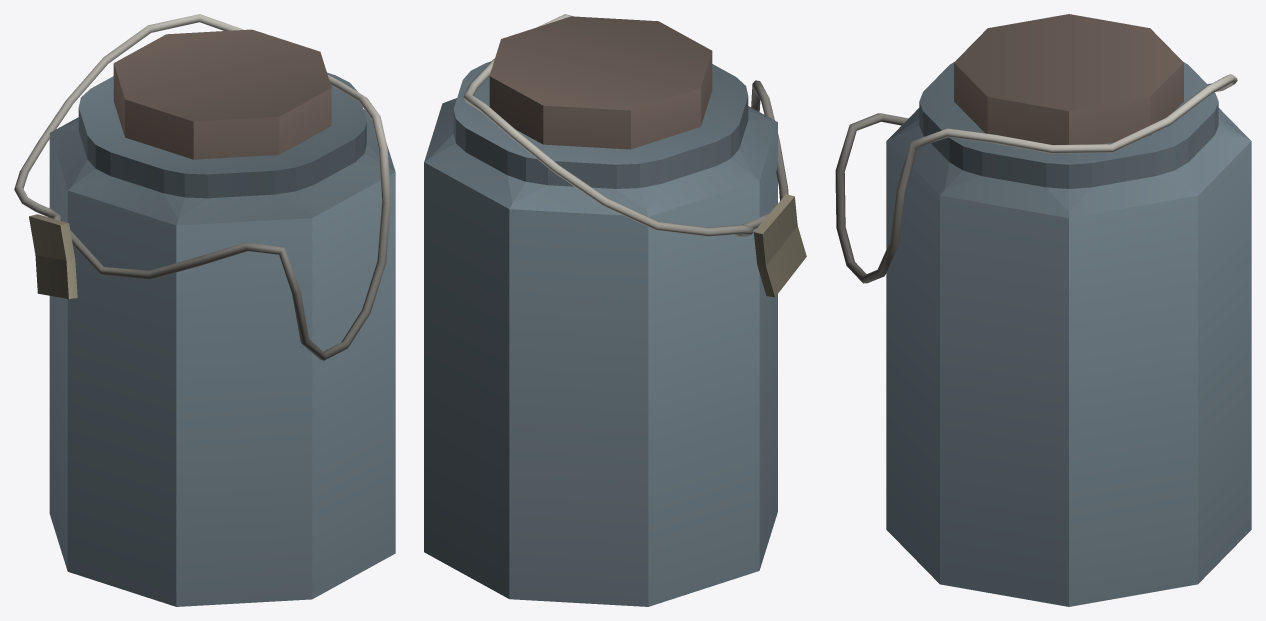
File: Fireflyes_Jar.fbx
The picture shows the model from 3 angles, left to right: view 1: azimuth 30°, elevation 25°; view 2: azimuth 150°, elevation 25°; view 3: azimuth 270°, elevation 25°; orthographic projection. The views are drawn at different scales.
Visible parts, largest first — view 1: Fireflyes Jar; view 2: Fireflyes Jar; view 3: Fireflyes Jar.
Boxes of the visible parts, left/top/right/bottom form: Fireflyes Jar: left=14, top=14, right=395, bottom=606; Fireflyes Jar: left=424, top=14, right=806, bottom=606; Fireflyes Jar: left=835, top=14, right=1251, bottom=606.
Bounding box in the file's own units: 215 × 282 × 228.
Materials: 1 (1 with a texture image).
